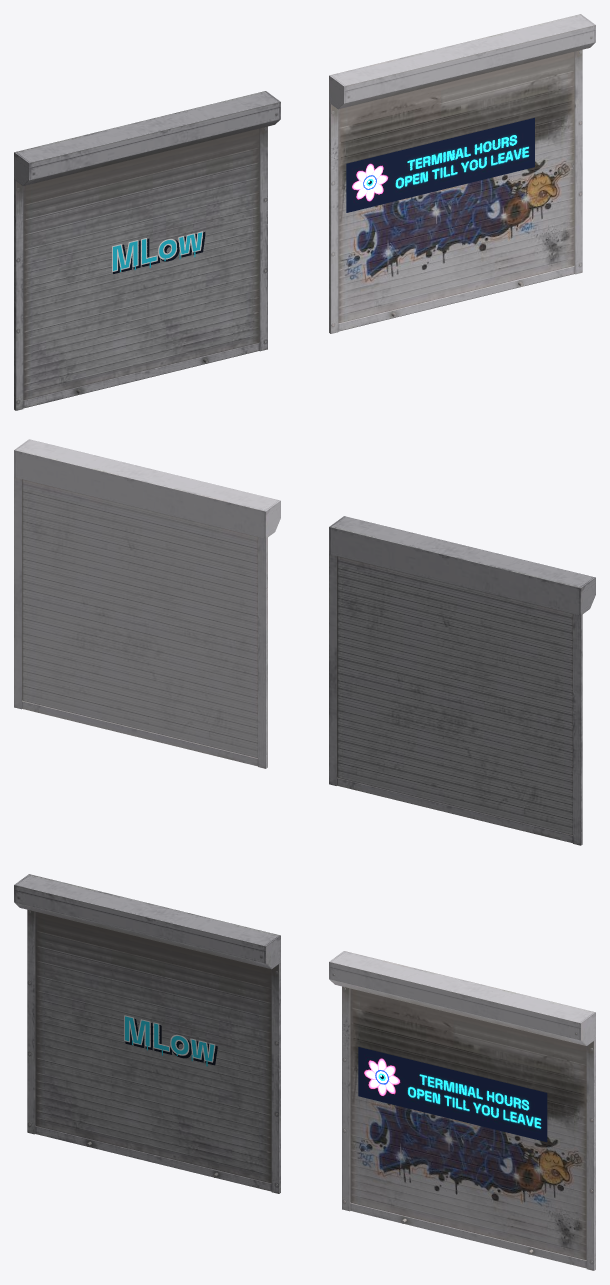
Rendered from nyb_afterhours_window.glb.
3 views of the same model, one above another, from view 1: azimuth 30°, elevation 25°; view 2: azimuth 150°, elevation 25°; view 3: azimuth 330°, elevation 25° (orthographic).
Visible parts, largest first — view 1: rollershutter_window_02, stk_lbl_e658e873b2.png, stk_tag_mlow_cyan.png; view 2: rollershutter_window_02; view 3: rollershutter_window_02, stk_lbl_e658e873b2.png, stk_tag_mlow_cyan.png.
Boxes of the visible parts, bbox=[...] form: rollershutter_window_02: bbox=[14, 14, 595, 410]; stk_lbl_e658e873b2.png: bbox=[346, 117, 534, 212]; stk_tag_mlow_cyan.png: bbox=[112, 231, 205, 273]; rollershutter_window_02: bbox=[14, 439, 595, 845]; rollershutter_window_02: bbox=[14, 874, 595, 1270]; stk_lbl_e658e873b2.png: bbox=[358, 1047, 547, 1142]; stk_tag_mlow_cyan.png: bbox=[124, 1015, 217, 1066].
Bounding box in the file's own units: 3.6 × 1.56 × 0.1681.
Materials: 4 (4 with a texture image).
